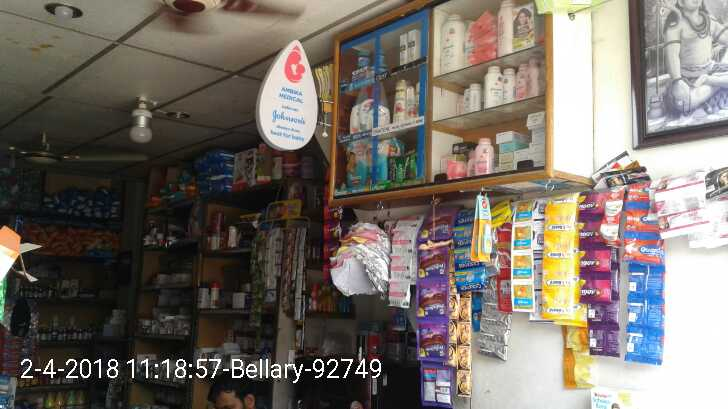vicks: (348, 43, 387, 78)
